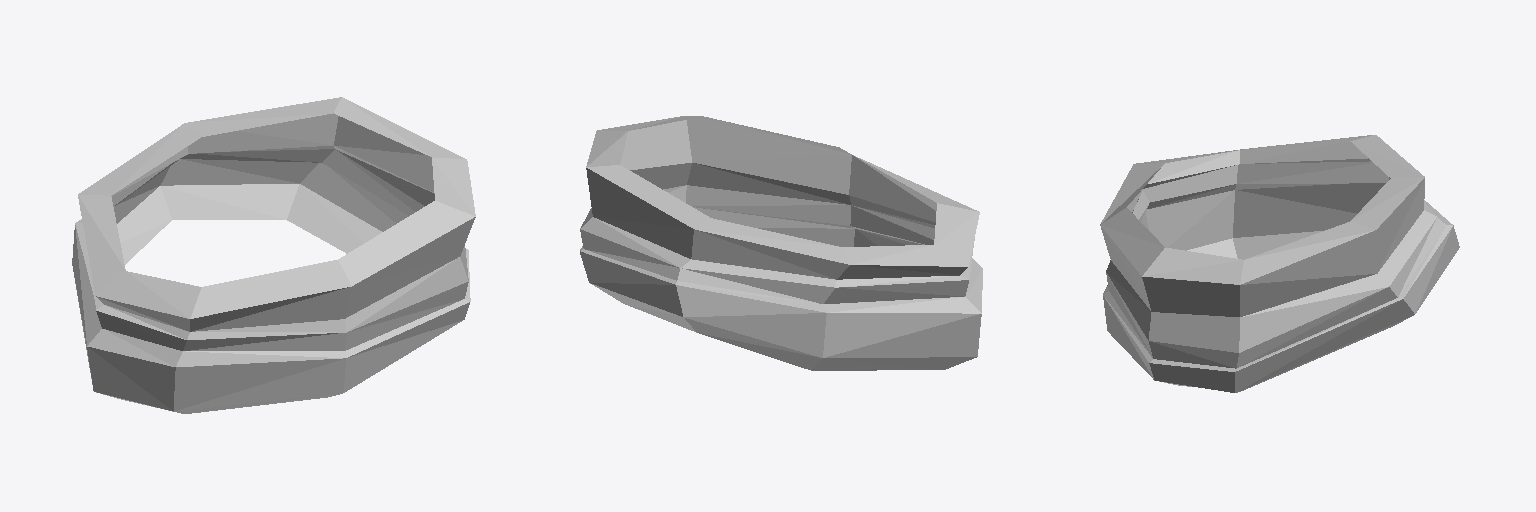
Rendered from Belt__ncl1_29.obj.
The picture shows the model from 3 angles: view 1: azimuth 30°, elevation 25°; view 2: azimuth 150°, elevation 25°; view 3: azimuth 270°, elevation 25°; orthographic projection.
Visible parts, largest first — view 1: Belt__ncl1_29.007; view 2: Belt__ncl1_29.007; view 3: Belt__ncl1_29.007.
Part boxes in pixels (x1,y1,x2,y2): Belt__ncl1_29.007: (72,97,475,413); Belt__ncl1_29.007: (580,116,982,370); Belt__ncl1_29.007: (1100,135,1459,392).
Bounding box in the file's own units: 0.6666 × 0.3034 × 0.543.